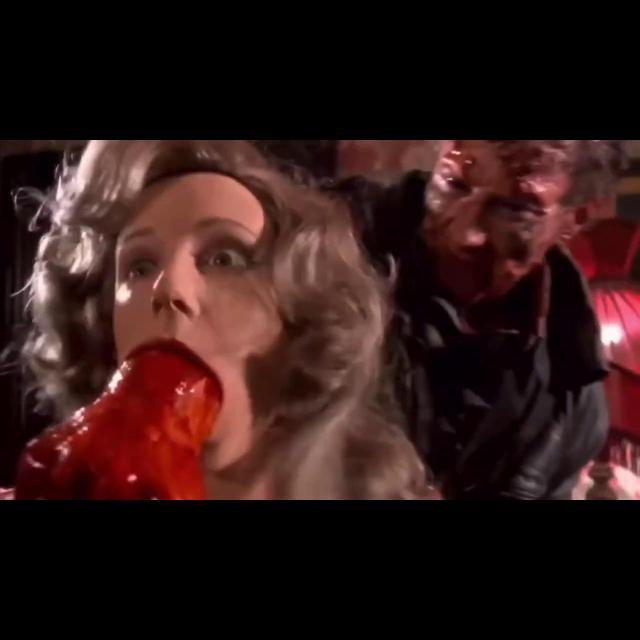blood: (15, 340, 222, 500), (422, 140, 597, 305)
